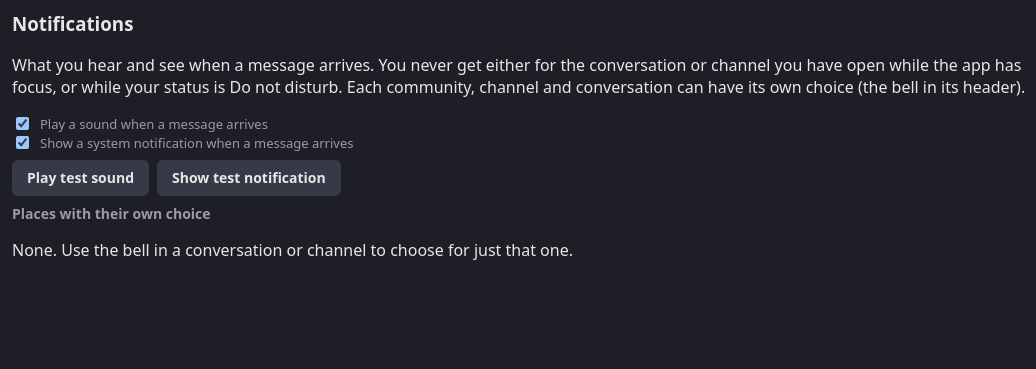
Test: Settings -> Notifications › the test buttons › plays the sound even right after another, and says so
Step 1. Click the button "Play test sound" → (80, 178), box [12,160,149,196]
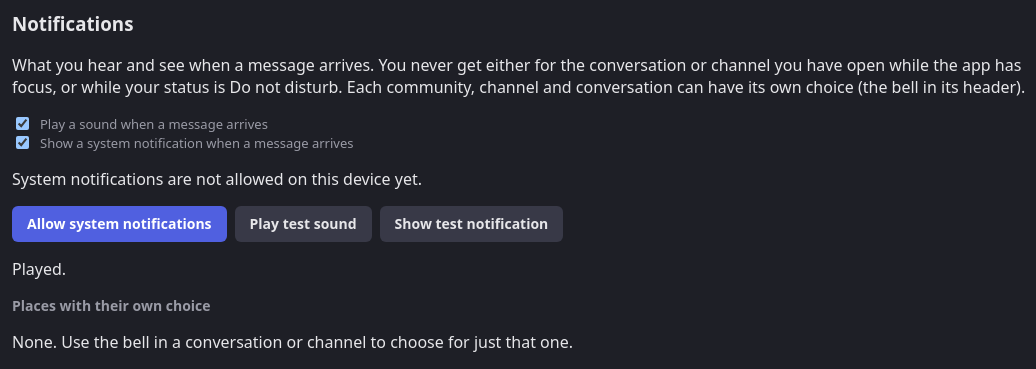
Expected: the text "Played." is shown, [12,258,66,280]
